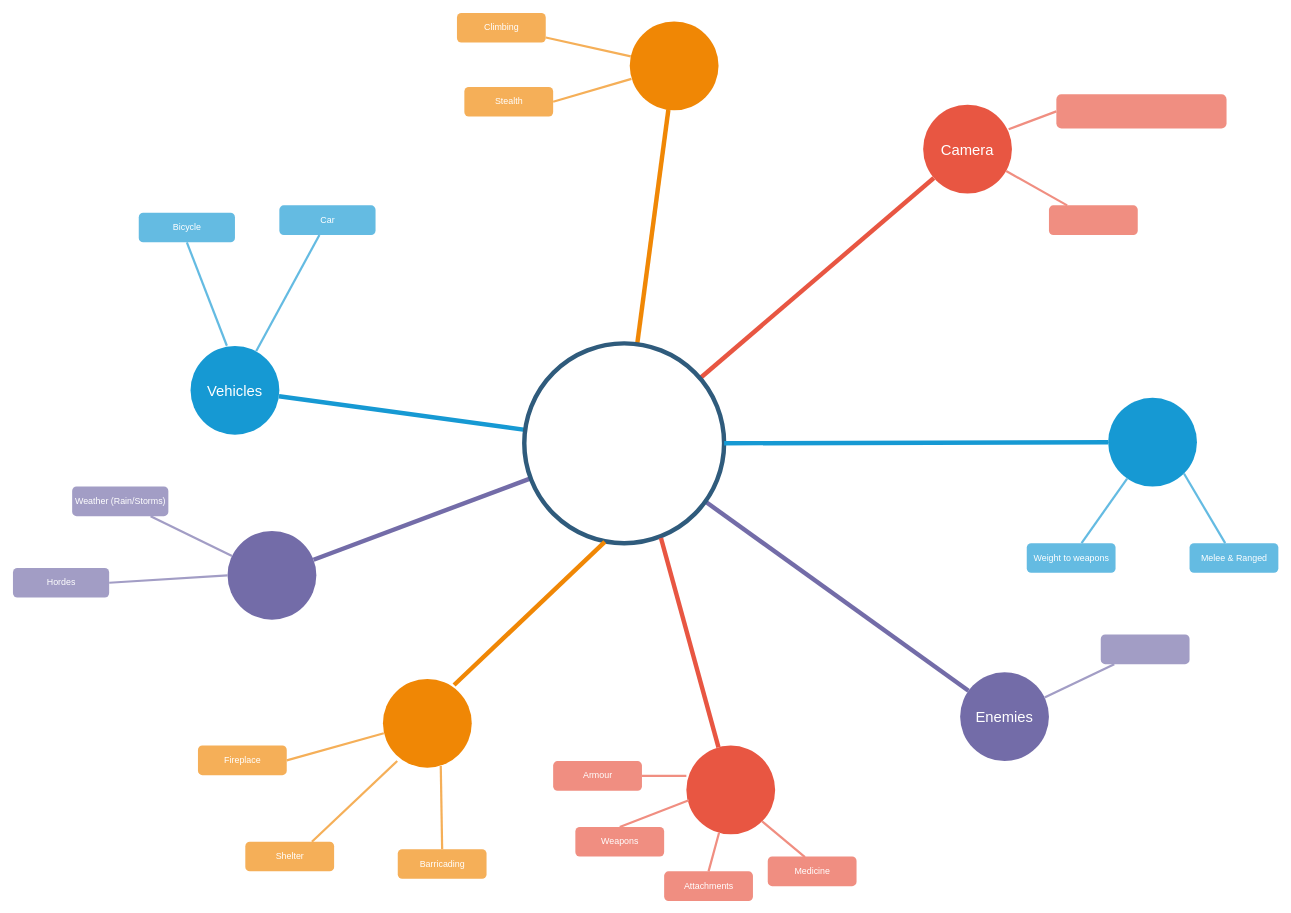
Some shapes in this 1291 by 913 pixel diagram are drawn without their labels. Here are the shapes that lost their labels. From the top down, the centre of each, then its label:
[673,65]: Movement
[1141,111]: Pan camera independently in a radius
[1093,220]: Eagle Eye View
[624,443]: survival game
[1152,441]: Combat
[271,575]: Events
[1144,649]: Infected
[427,723]: Building
[730,789]: Crafting
